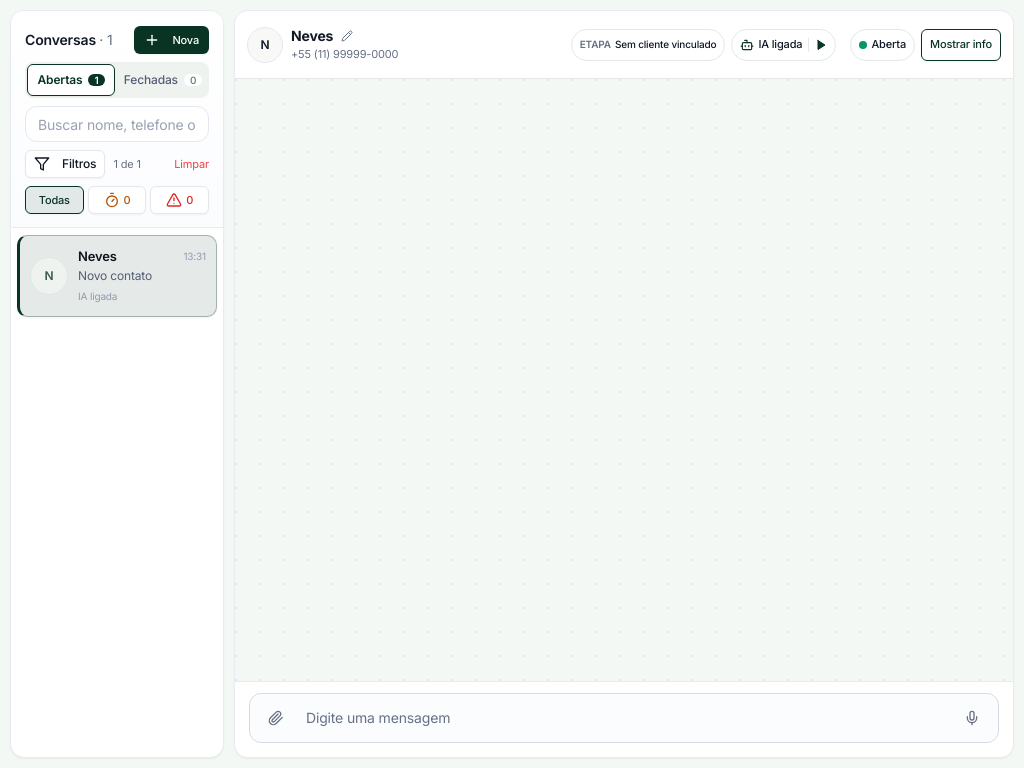
telefone de outra conversa: explica e une as duas pelo servidor
This screenshot has width=1024, height=768.
Expected: the button "N Neves 13:31 Novo contato IA ligada" is shown, [17,235,217,317]
Click the button named "Editar nome": (347, 36) [337,26,357,46]
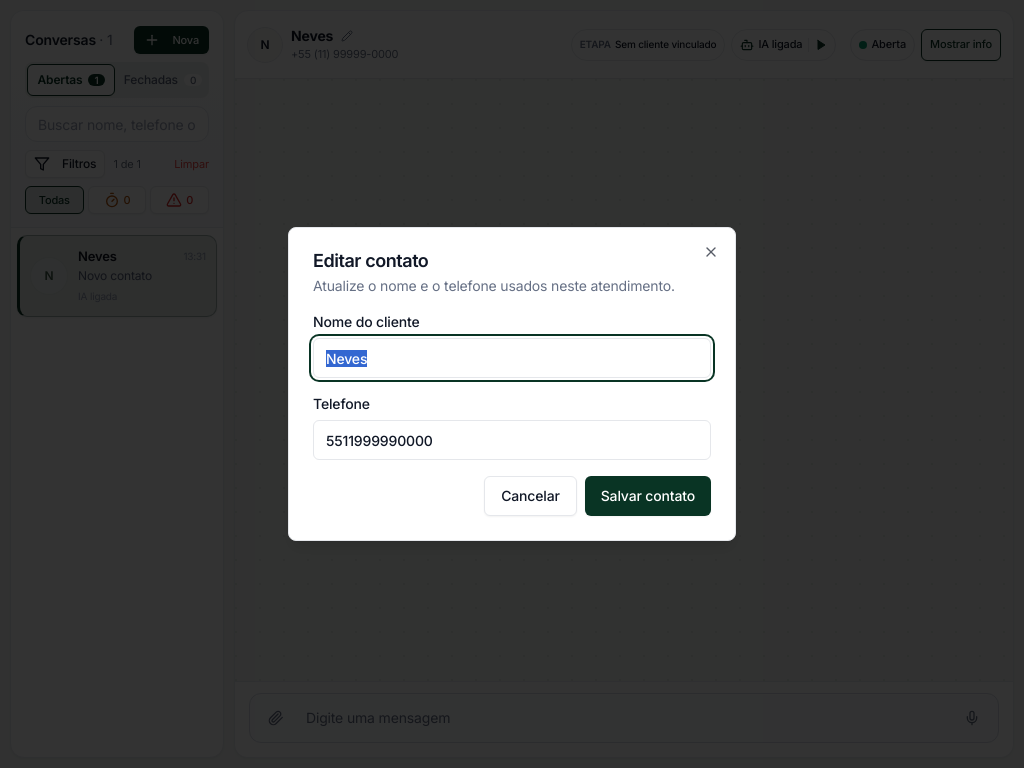
Replace the text in the field labelled "Telefone" with "(11) 98888-7777": (512, 440) [313,420,711,460]
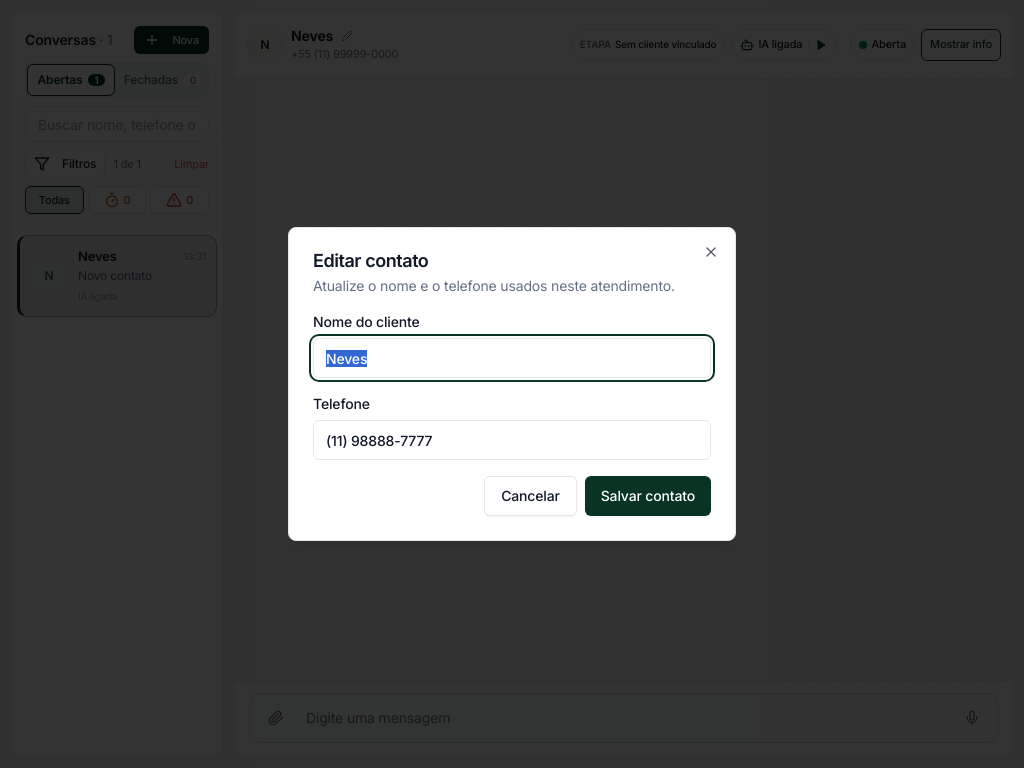
Click the button "Salvar contato": (648, 496) [585,476,711,516]
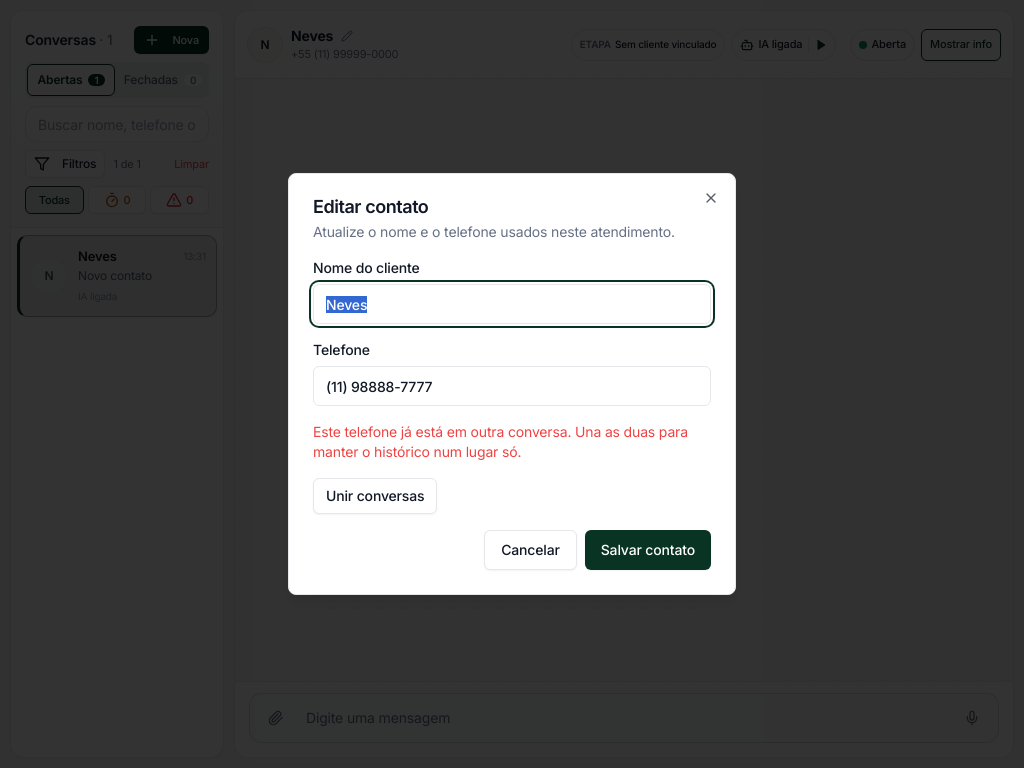
Expected: the message shows "Este telefone já está em outra conversa", [313,423,688,460]
Click the button "Unir conversas": (375, 496) [313,478,437,514]
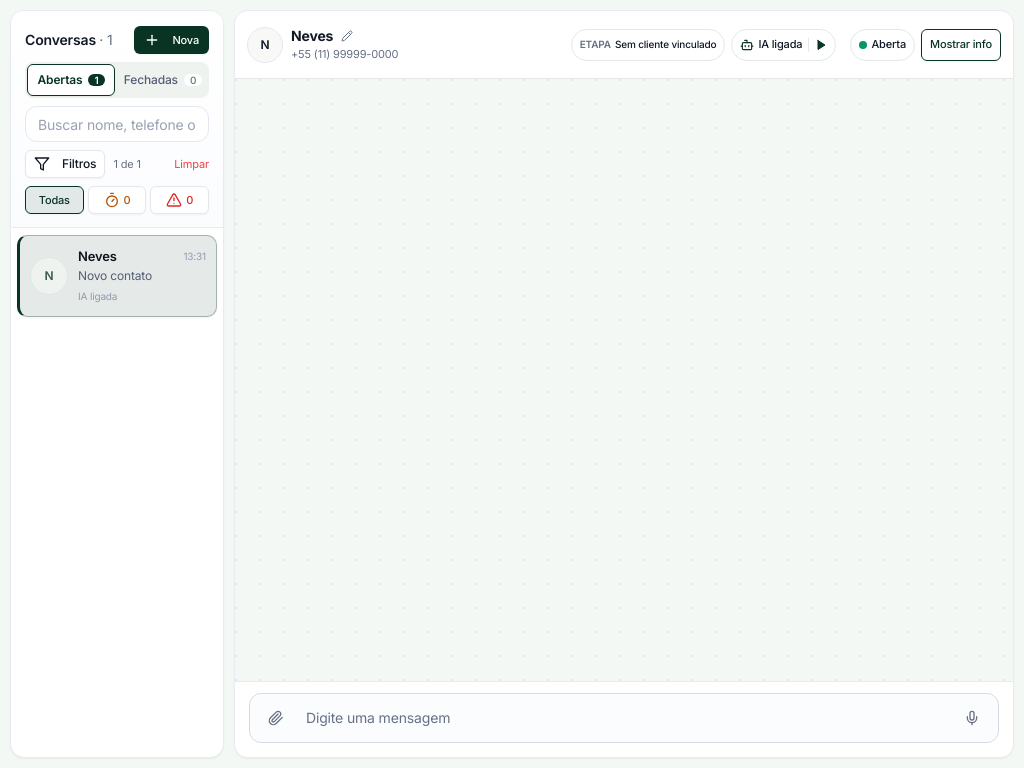
Expected: the heading "Editar contato" is gone
